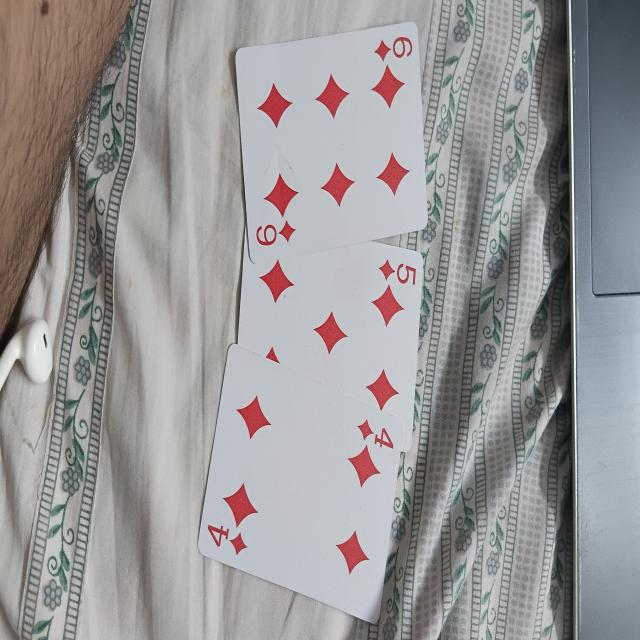4D: (193, 403, 398, 619)
5D: (242, 241, 420, 414)
6D: (235, 25, 429, 229)
